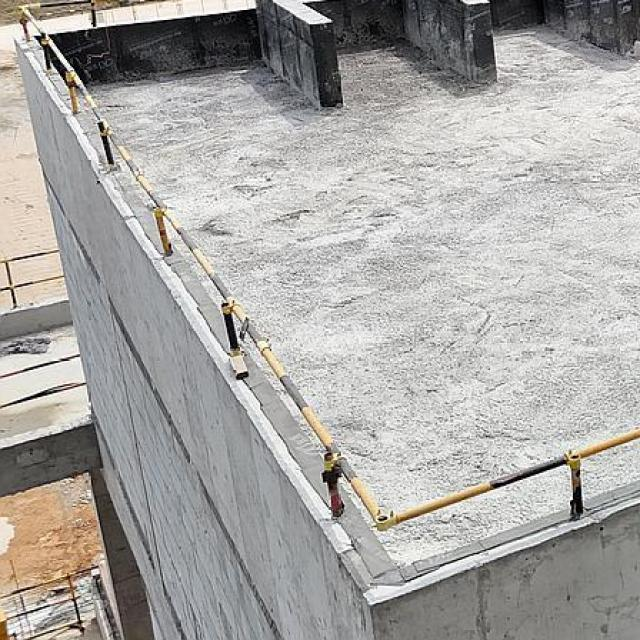edge_guardrail: (14, 0, 640, 533), (0, 564, 100, 640), (0, 351, 89, 410), (0, 247, 66, 310)
